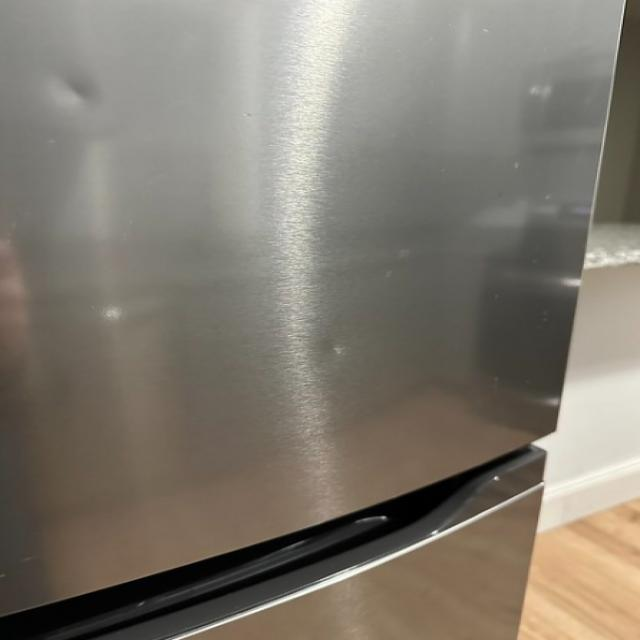dents: (38, 57, 120, 122), (305, 323, 357, 372)
